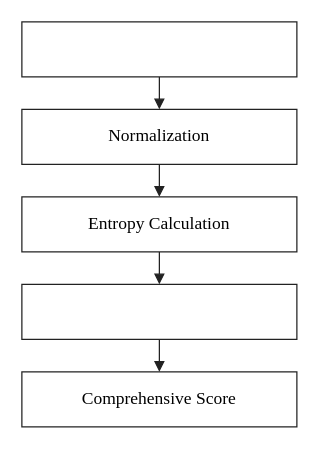
Some shapes in this 319 by 449 pixel diagram are drawn without their labels. The shapes that lost their labels are listed below. From the top down, each one's centre as x and y in pixels, then its label:
point (159, 49): Indicator Matrix
point (159, 311): Weight Vector
